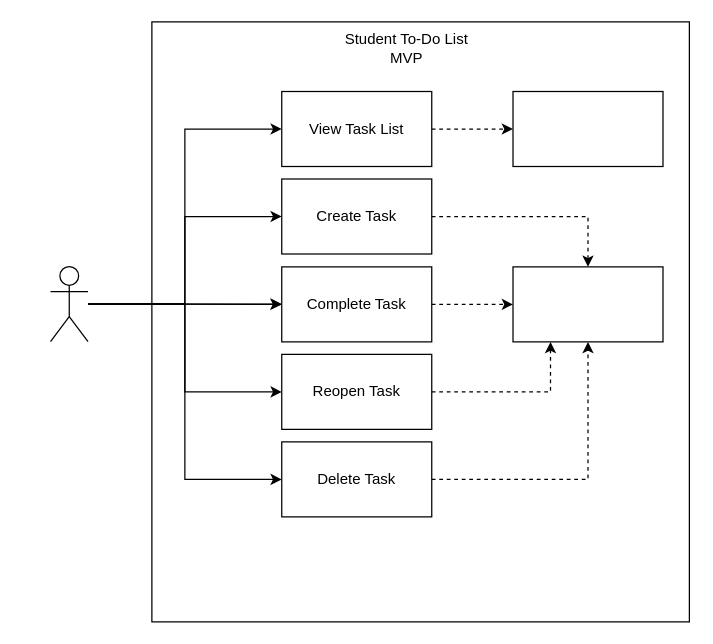
Some shapes in this 713 by 644 pixel diagram are drawn without their labels. The shapes that lost their labels are listed below. From the top down, each one's box as (x1, y1, x2, y2) in pixels, then its label:
(512, 90, 663, 166): Load Saved Tasks
(49, 265, 88, 342): Student / User
(512, 266, 663, 342): Save Task
